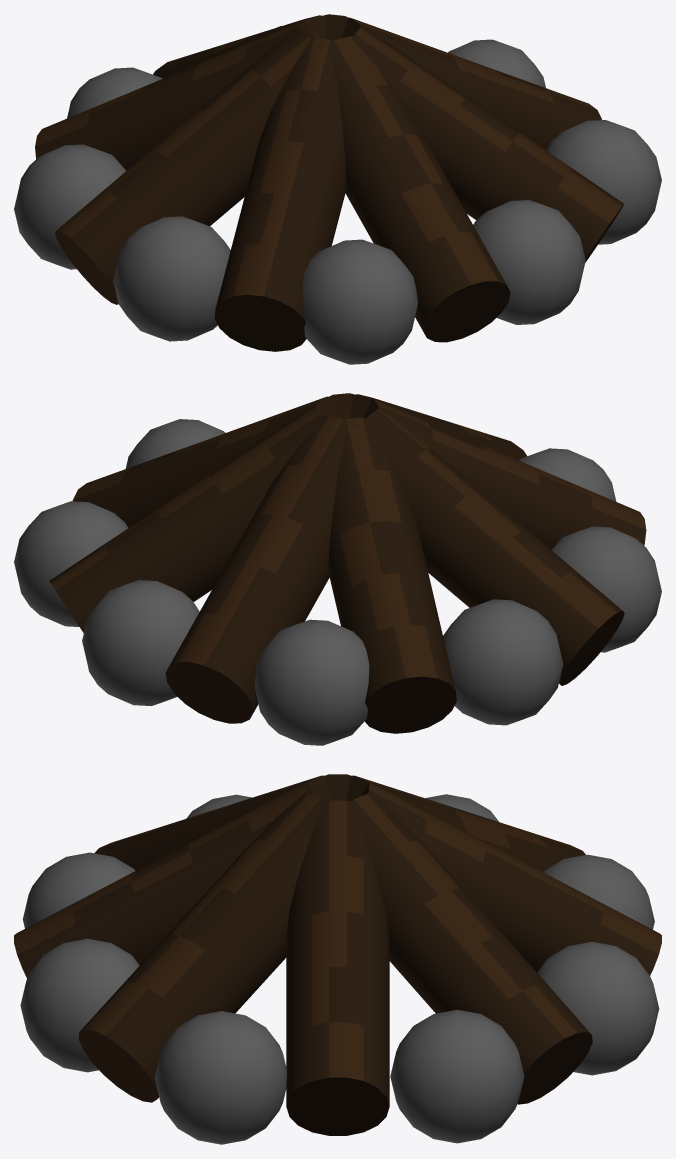
File: Hoguera.fbx
The picture shows the model from 3 angles, top to bottom: view 1: azimuth 30°, elevation 25°; view 2: azimuth 150°, elevation 25°; view 3: azimuth 270°, elevation 25°; orthographic projection. The views are drawn at different scales.
Visible parts, largest first — view 1: Cylinder006; view 2: Cylinder006; view 3: Cylinder006.
Boxes of the visible parts, <box> form: Cylinder006: <box>14,14,661,364</box>; Cylinder006: <box>14,393,661,745</box>; Cylinder006: <box>14,774,661,1144</box>.
Bounding box in the file's own units: 69.79 × 28.15 × 69.
